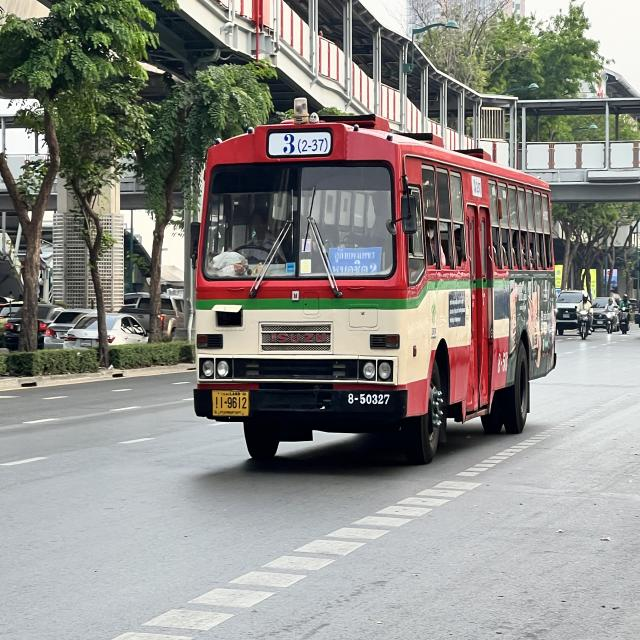BMTA-bus: (184, 87, 564, 473)
Bus-Line-Number: (268, 131, 330, 155)
Destination-Sign-Normal: (327, 246, 382, 276)
